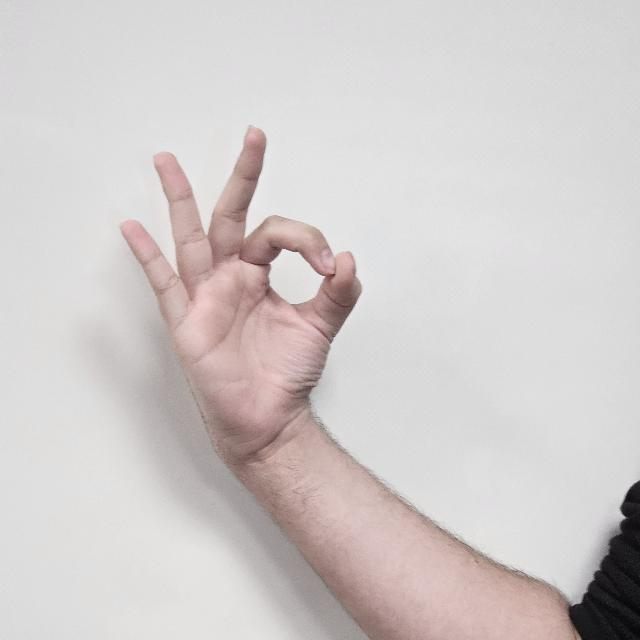Bolinha: (108, 118, 388, 450)
